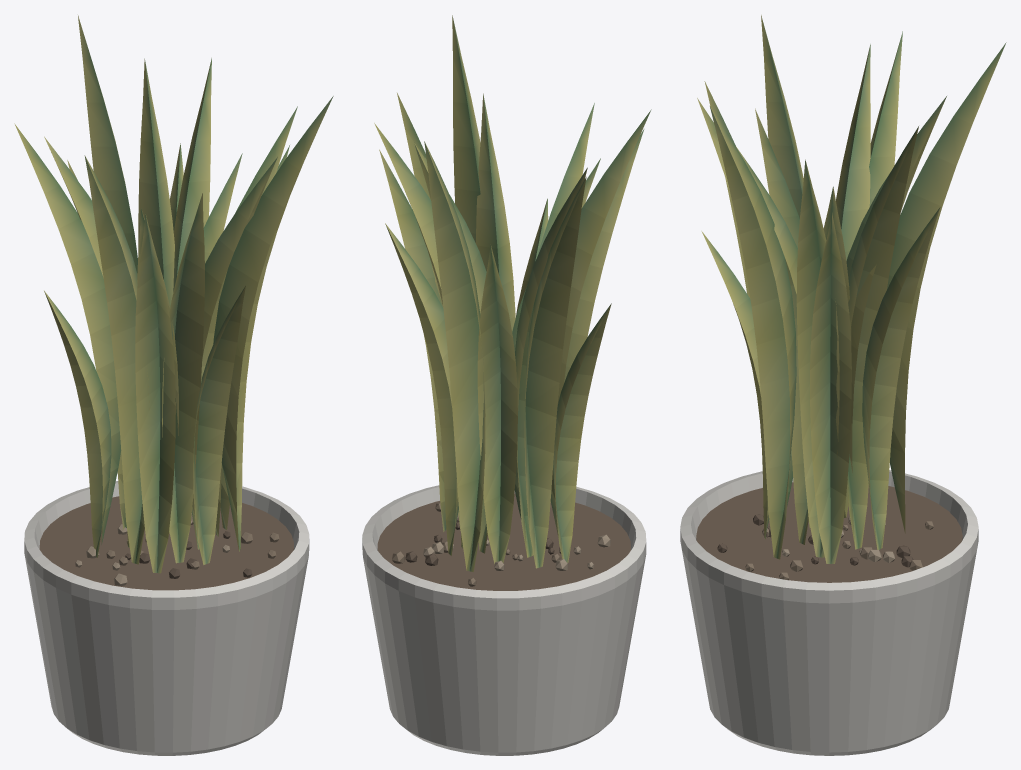
File: sansevieria_LUMA_3D.glb
The picture shows the model from 3 angles, left to right: view 1: azimuth 30°, elevation 25°; view 2: azimuth 150°, elevation 25°; view 3: azimuth 270°, elevation 25°; orthographic projection. The views are drawn at different scales.
Parts seen in each view (by area): view 1: world; view 2: world; view 3: world.
Part boxes in pixels (x1,y1,x2,y2): world: [14, 15, 333, 755]; world: [362, 15, 651, 755]; world: [680, 15, 1006, 755].
Size of the model in its own units: 0.8435 by 2.06 by 0.9189.
